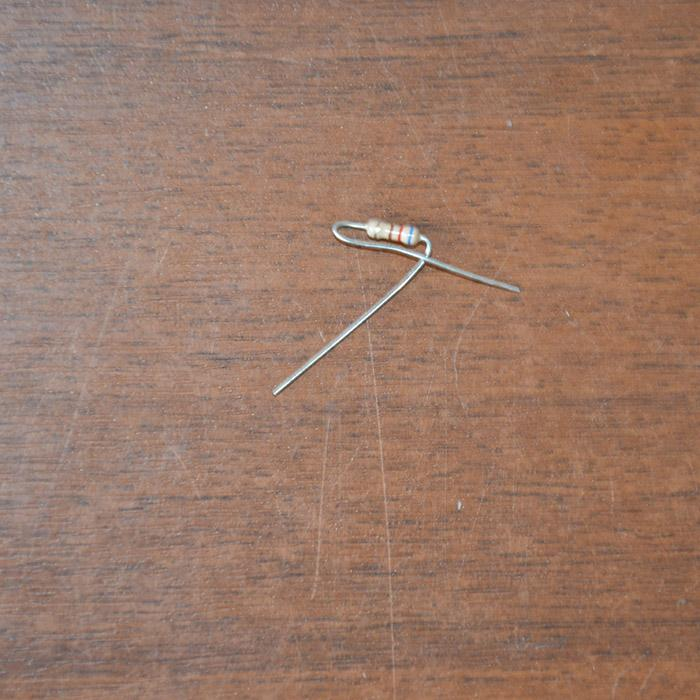resistor: (365, 218, 419, 247)
